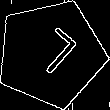L_SW: (22, 24, 79, 83)
